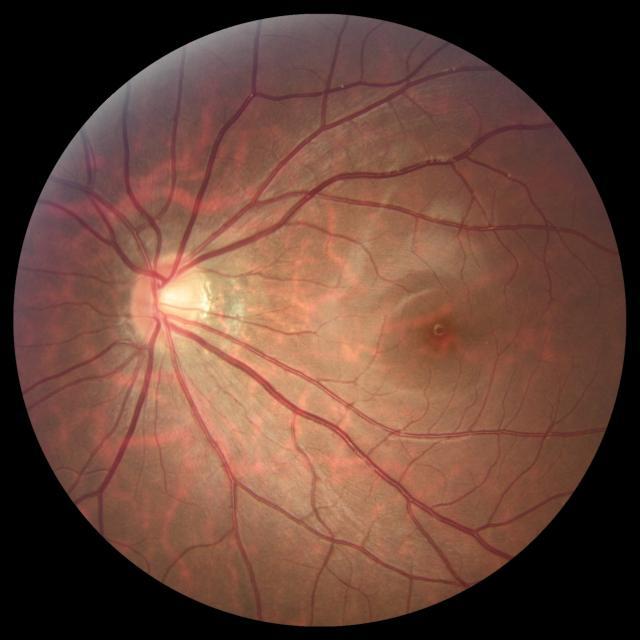OC: (154, 279, 190, 316)
OD: (131, 254, 210, 347)
